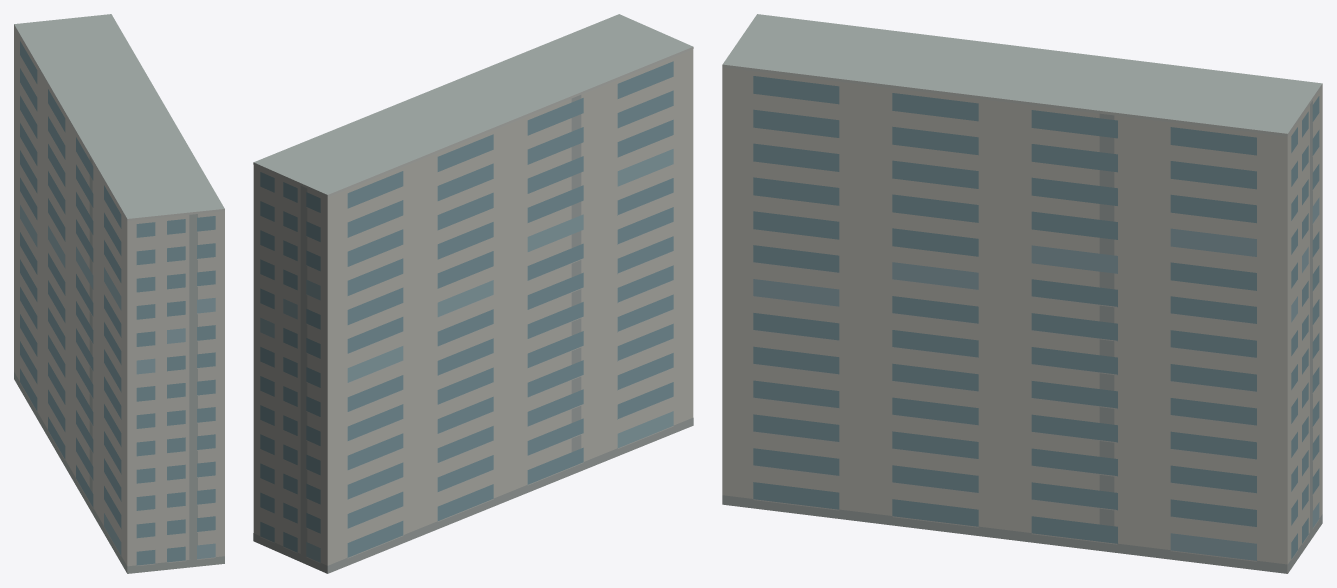
File: residential-093c31e8-0ac6-4bc9-9596-09b5836c9d55.glb
The picture shows the model from 3 angles, left to right: view 1: azimuth 30°, elevation 25°; view 2: azimuth 150°, elevation 25°; view 3: azimuth 270°, elevation 25°; orthographic projection. The views are drawn at different scales.
Visible parts, largest first — view 1: residential-093c31e8-0ac6-4bc9-9596-09b5836c9d55.tmp; view 2: residential-093c31e8-0ac6-4bc9-9596-09b5836c9d55.tmp; view 3: residential-093c31e8-0ac6-4bc9-9596-09b5836c9d55.tmp.
Part boxes in pixels (<box>): residential-093c31e8-0ac6-4bc9-9596-09b5836c9d55.tmp: <box>14,14,224,573</box>; residential-093c31e8-0ac6-4bc9-9596-09b5836c9d55.tmp: <box>253,14,693,573</box>; residential-093c31e8-0ac6-4bc9-9596-09b5836c9d55.tmp: <box>722,14,1322,573</box>.
Size of the model in its own units: 22.2 by 38 by 46.97.
